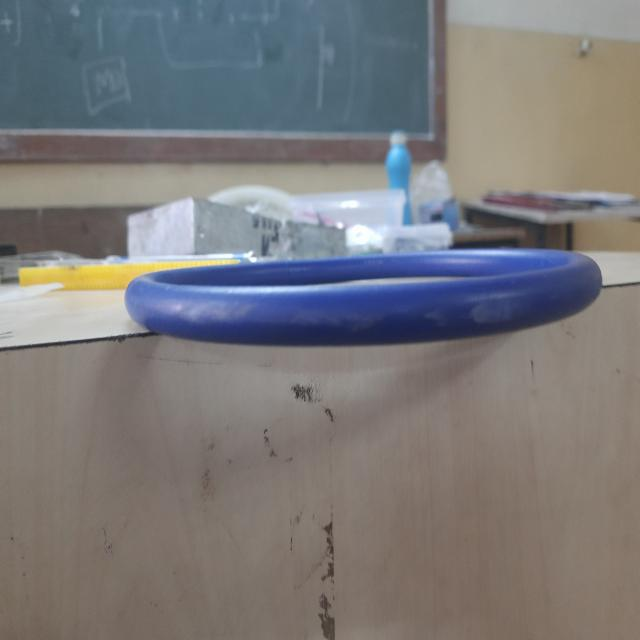daire: (125, 247, 603, 347)
